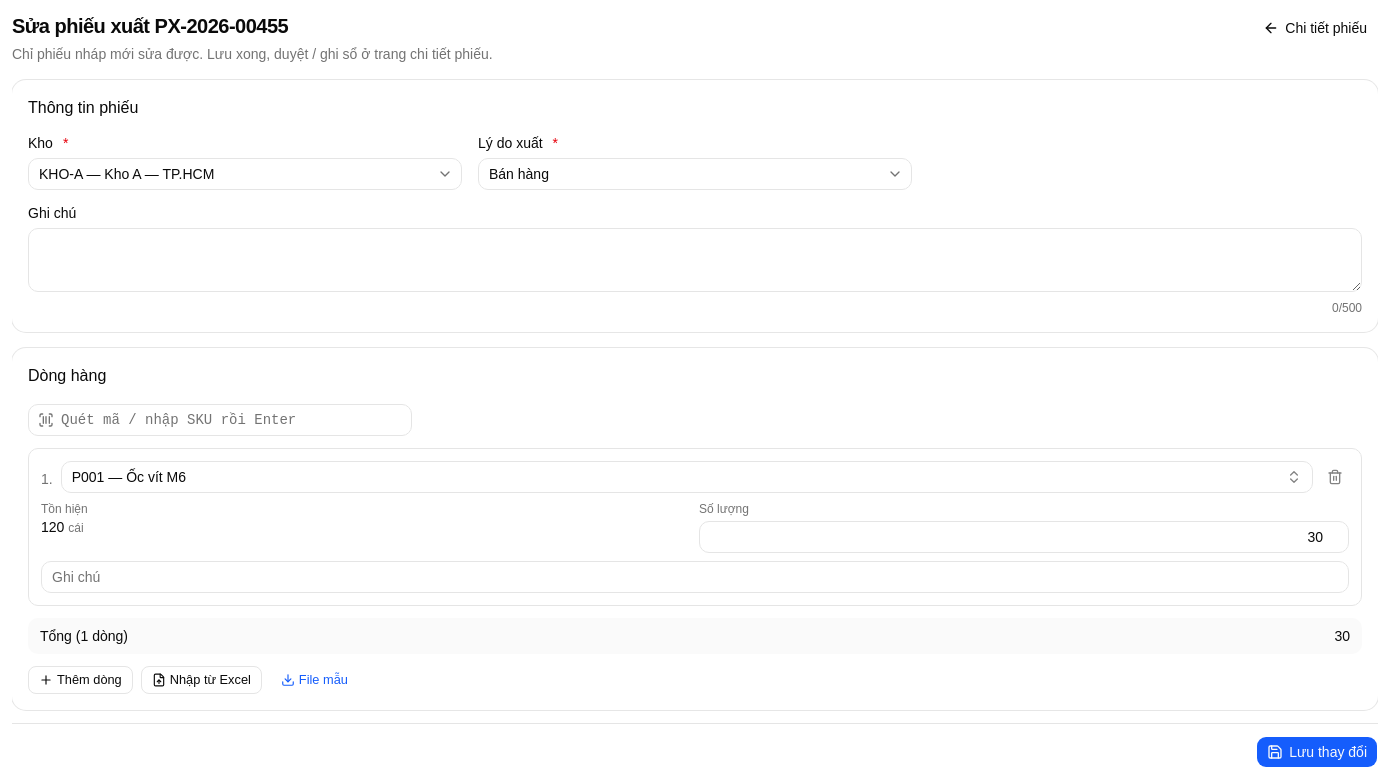
Test: Sửa phiếu nháp › prefills the form from the draft and PUTs the changes with its rowVersion
The image size is (1390, 780).
Expected: the heading "Sửa phiếu xuất PX-2026-00455" is shown, [12,15,288,37]
Expected: the dropdown named "Sản phẩm dòng 1" reads "P001 — Ốc vít M6", [61,461,1313,493]
Replace the text in the number field named "Số lượng dòng 1" with "12" at point(1024, 537), box [699,521,1349,553]
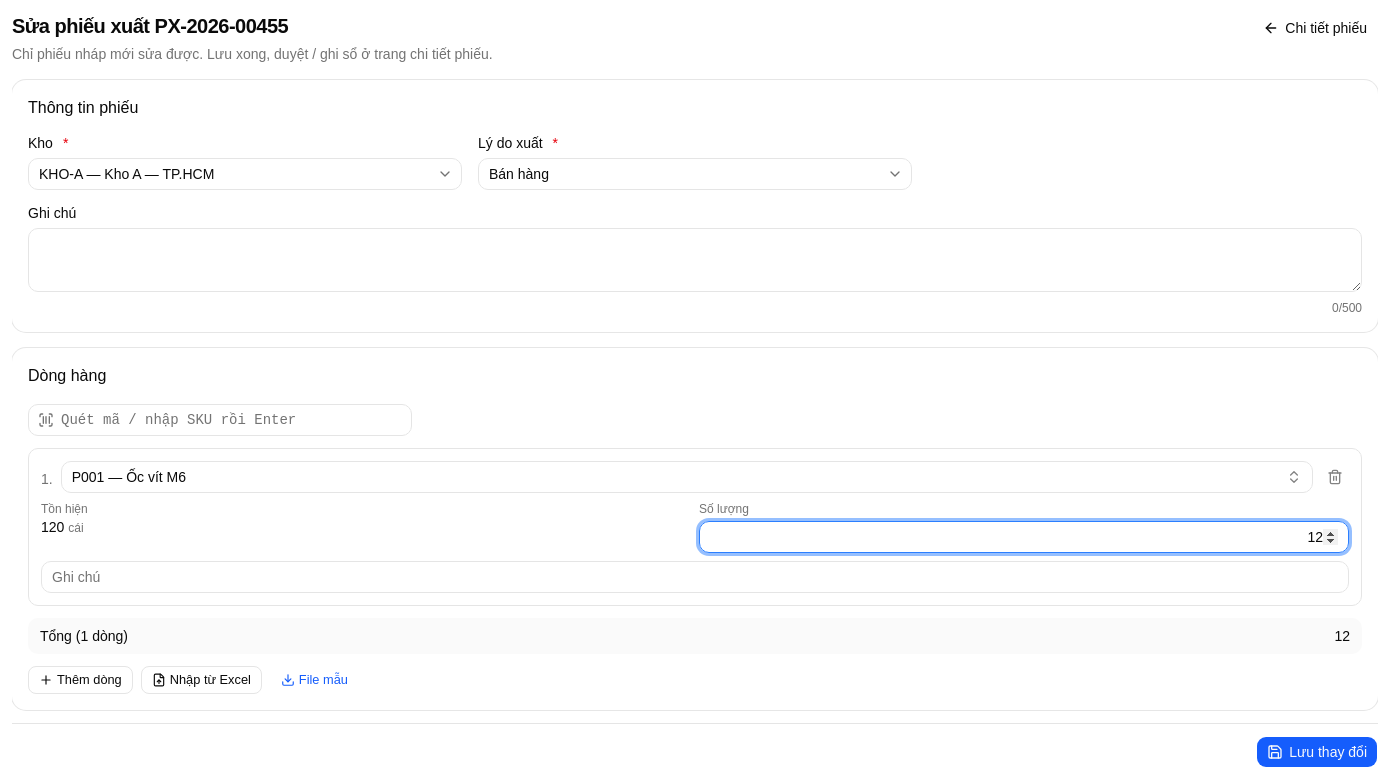
Click the button "Lưu thay đổi" at point(1317, 752), box [1256,736,1378,768]
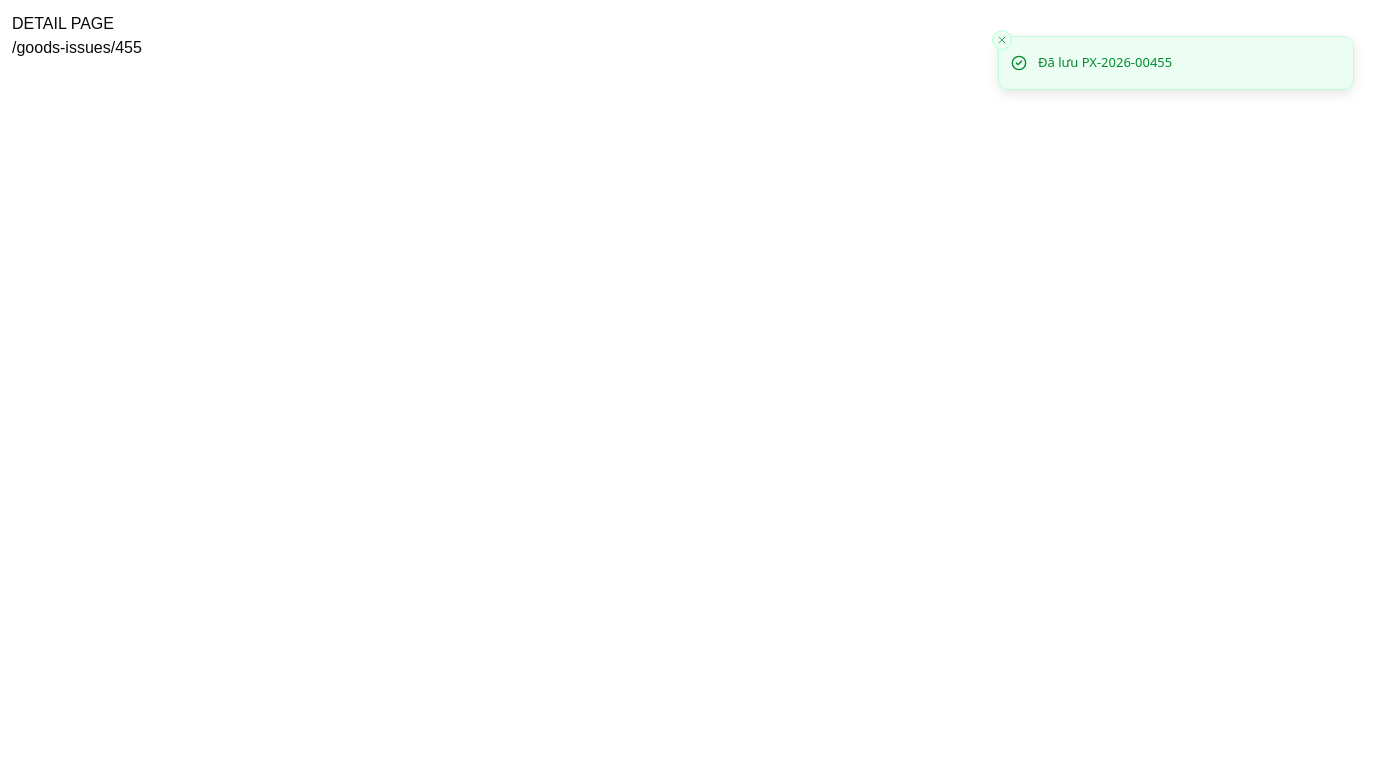
Now the text "DETAIL PAGE" is shown, box [12,15,114,32]
